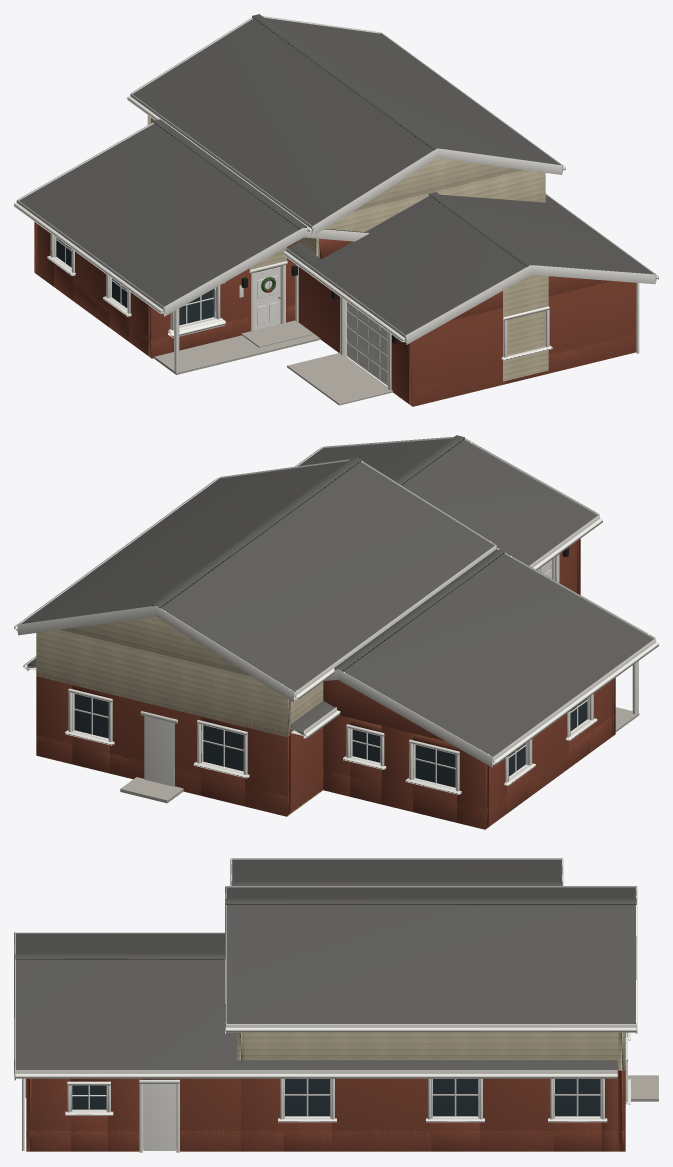
File: building_suburb_house.glb
3 renders of one model, top to bottom at view 1: azimuth 30°, elevation 25°; view 2: azimuth 150°, elevation 25°; view 3: azimuth 270°, elevation 25°, orthographic. The views are drawn at different scales.
Parts seen in each view (by area): view 1: roof, wall_front, wall_left, base, wall_front_low, door, wall_left_low; view 2: roof, wall_back, wall_left, wall_back_low, wall_front, wall_left_low, base; view 3: roof, wall_right, wall_right_low, wall_back, base, wall_front.
Part boxes in pixels (x1=…): roof: x1=14, y1=14, x2=658, y2=344; wall_front: x1=148, y1=238, x2=639, y2=406; wall_left: x1=37, y1=224, x2=148, y2=355; base: x1=241, y1=320, x2=392, y2=405; wall_front_low: x1=148, y1=305, x2=635, y2=406; door: x1=255, y1=267, x2=280, y2=329; wall_left_low: x1=37, y1=263, x2=148, y2=355; roof: x1=14, y1=435, x2=658, y2=767; wall_back: x1=36, y1=672, x2=488, y2=829; wall_left: x1=489, y1=680, x2=611, y2=826; wall_back_low: x1=36, y1=735, x2=488, y2=829; wall_front: x1=537, y1=539, x2=639, y2=736; wall_left_low: x1=489, y1=717, x2=611, y2=826; base: x1=120, y1=777, x2=322, y2=815; roof: x1=14, y1=858, x2=637, y2=1080; wall_right: x1=33, y1=1066, x2=618, y2=1152; wall_right_low: x1=33, y1=1131, x2=618, y2=1151; wall_back: x1=618, y1=1032, x2=630, y2=1151; base: x1=143, y1=1075, x2=658, y2=1148; wall_front: x1=22, y1=1078, x2=33, y2=1151.
Bounding box in the file's own units: 14.22 × 5.62 × 17.43.
Materials: 16 (1 with a texture image).
